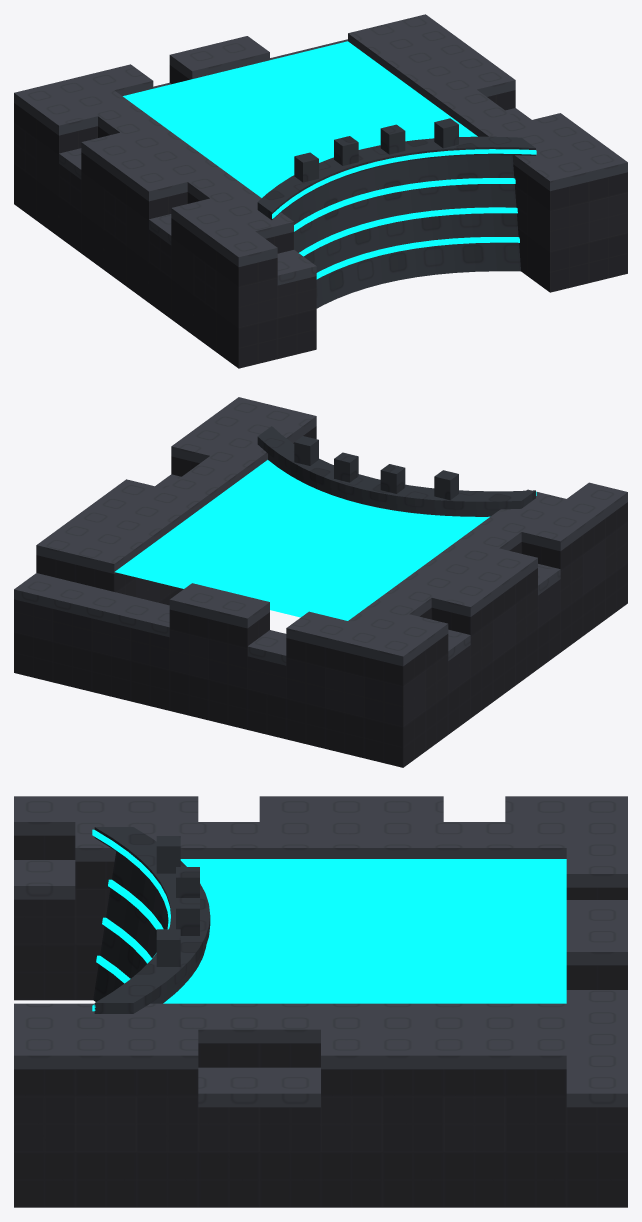
Rendered from Barrage_Cybernetique.glb.
3 renders of one model, top to bottom at view 1: azimuth 30°, elevation 25°; view 2: azimuth 150°, elevation 25°; view 3: azimuth 270°, elevation 25°, orthographic. The views are drawn at different scales.
Parts seen in each view (by area): view 1: Barrage_Cybernetique; view 2: Barrage_Cybernetique; view 3: Barrage_Cybernetique.
Part boxes in pixels (x1,y1,x2,y2): Barrage_Cybernetique: [14, 14, 627, 368]; Barrage_Cybernetique: [14, 397, 627, 767]; Barrage_Cybernetique: [14, 796, 627, 1207].
Size of the model in its own units: 10.24 by 3.5 by 10.24.
5 materials, 3 textured.
